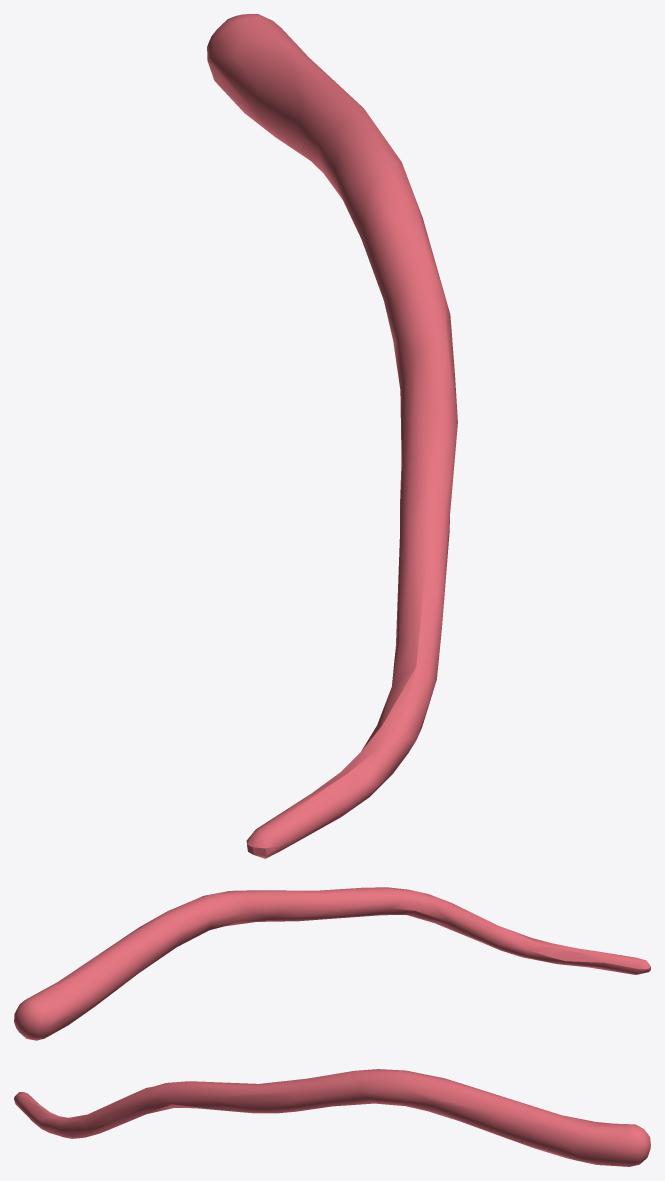
Rendered from fma3868_fj2643.glb.
3 renders of one model, top to bottom at view 1: azimuth 30°, elevation 25°; view 2: azimuth 150°, elevation 25°; view 3: azimuth 270°, elevation 25°, orthographic. The views are drawn at different scales.
Parts seen in each view (by area): view 1: FMA3868_FJ2643; view 2: FMA3868_FJ2643; view 3: FMA3868_FJ2643.
Part boxes in pixels (x1,y1,x2,y2): FMA3868_FJ2643: (207, 14, 457, 858); FMA3868_FJ2643: (14, 887, 650, 1040); FMA3868_FJ2643: (14, 1069, 650, 1166).
Size of the model in its own units: 0.0168 by 0.00763 by 0.0287.
